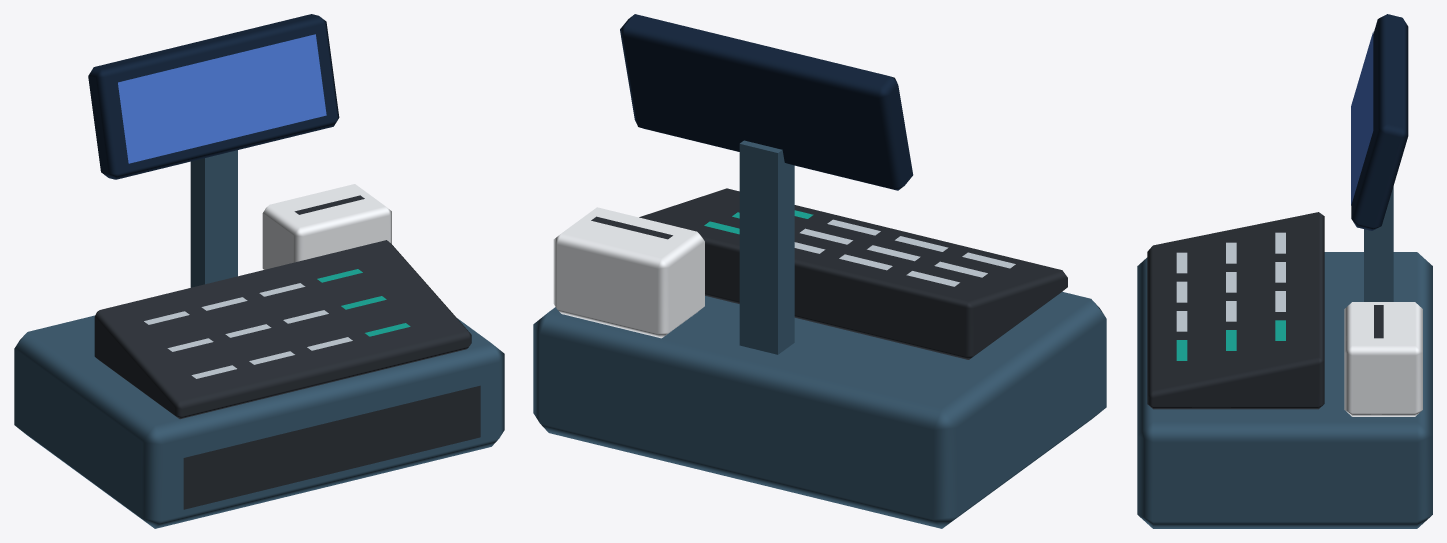
The model's file is CM_Interior_CashRegister.fbx.
The picture shows the model from 3 angles, left to right: view 1: azimuth 30°, elevation 25°; view 2: azimuth 150°, elevation 25°; view 3: azimuth 270°, elevation 25°; orthographic projection. The views are drawn at different scales.
Visible parts, largest first — view 1: Body; view 2: Body; view 3: Body.
Part boxes in pixels (bbox=[...]): Body: bbox=[14, 14, 504, 528]; Body: bbox=[533, 14, 1106, 528]; Body: bbox=[1137, 14, 1432, 528].
Bounding box in the file's own units: 2.2 × 1.51 × 2.1.
1 material, 1 textured.
